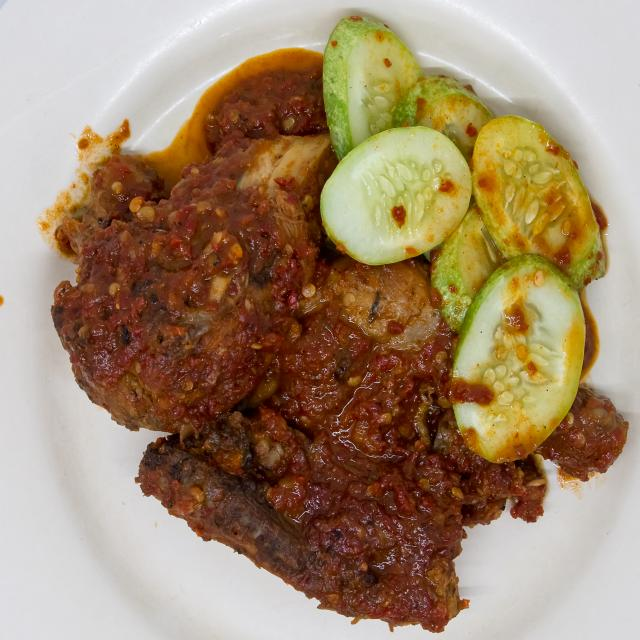Ayam-Bumbu-Rujak: (46, 19, 603, 630)
